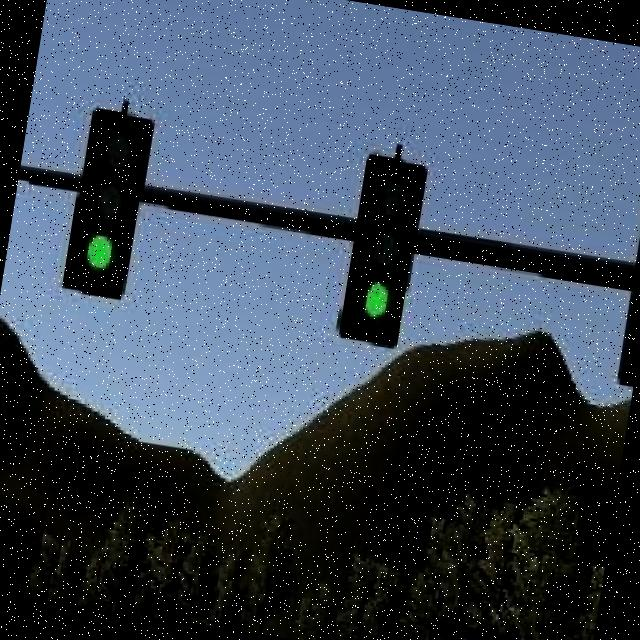Zielone swiatlo: (337, 154, 429, 351), (64, 105, 153, 301)
